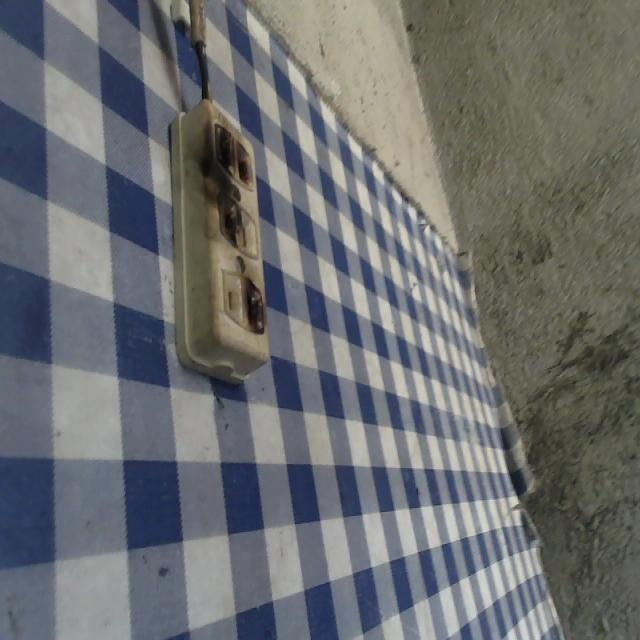-: (210, 116, 254, 189), (214, 189, 242, 247), (242, 274, 264, 334)
